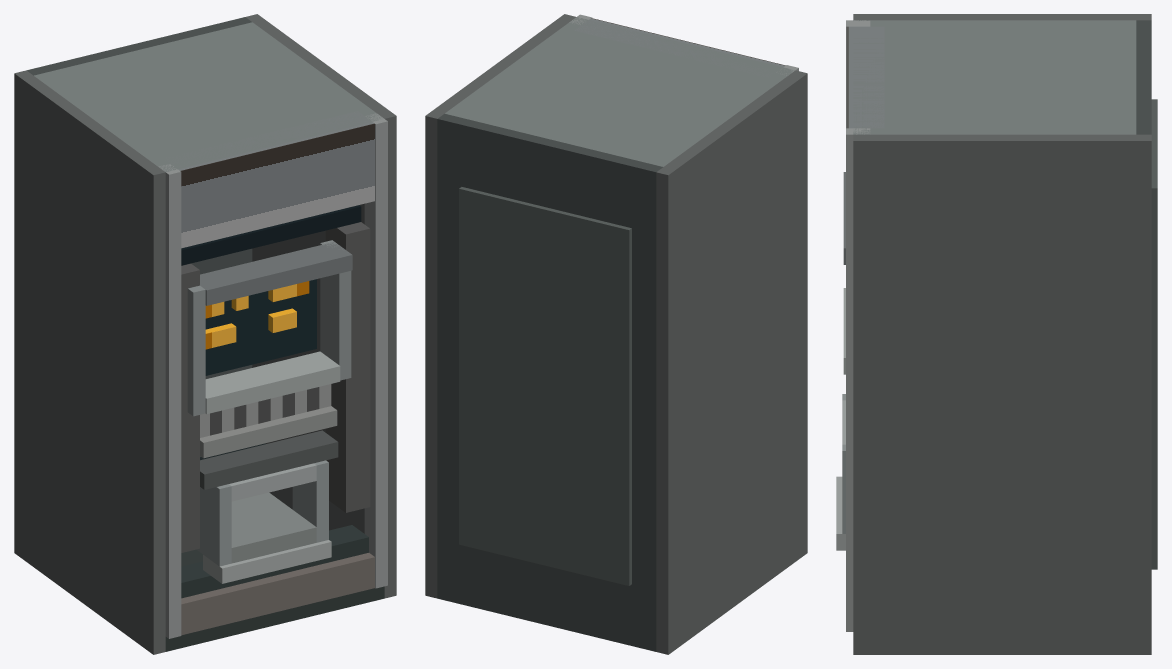
File: CMU3DVendorToolsCloud.glb
The picture shows the model from 3 angles, left to right: view 1: azimuth 30°, elevation 25°; view 2: azimuth 150°, elevation 25°; view 3: azimuth 270°, elevation 25°; orthographic projection. The views are drawn at different scales.
Parts seen in each view (by area): view 1: left full depth chassis, solid roof, plain header original detail, right full depth chassis, right dark face stile, right satin front rail, left satin front rail, bottom steel plinth, deep display housing, screen top bezel, screen lower bezel, pickup real floor (+19 smaller); view 2: left full depth chassis, rear removable cover, rear enclosed shell, solid roof, right full depth chassis, plain header; view 3: right full depth chassis, solid roof, right satin front rail, plain header, rear removable cover, left full depth chassis, rear enclosed shell, pickup projecting lower lip, left satin front rail.
Boxes of the visible parts, x1,y1,x2,y2 form: left full depth chassis: (14, 70, 165, 654); solid roof: (34, 22, 383, 172); plain header original detail: (180, 123, 374, 248); right full depth chassis: (246, 14, 396, 598); right dark face stile: (325, 222, 370, 512); right satin front rail: (364, 113, 387, 588); left satin front rail: (158, 164, 181, 638); bottom steel plinth: (181, 553, 374, 635); deep display housing: (205, 279, 316, 375); screen top bezel: (200, 242, 352, 305); screen lower bezel: (205, 351, 340, 414); pickup real floor: (231, 492, 316, 563); left full depth chassis: (656, 70, 807, 654); rear removable cover: (459, 187, 631, 585); rear enclosed shell: (437, 113, 662, 651); solid roof: (445, 17, 794, 166); right full depth chassis: (425, 14, 575, 598); plain header: (574, 18, 785, 76); right full depth chassis: (853, 134, 1151, 654); solid roof: (853, 20, 1136, 134); right satin front rail: (846, 128, 870, 631); plain header: (848, 26, 884, 128); rear removable cover: (1151, 99, 1157, 569); left full depth chassis: (853, 14, 1151, 20); rear enclosed shell: (1136, 20, 1151, 134); pickup projecting lower lip: (836, 476, 845, 550); left satin front rail: (846, 20, 870, 128).
Bounding box in the file's own units: 0.625 × 1.18 × 0.667.
Materials: 31 (6 with a texture image).
